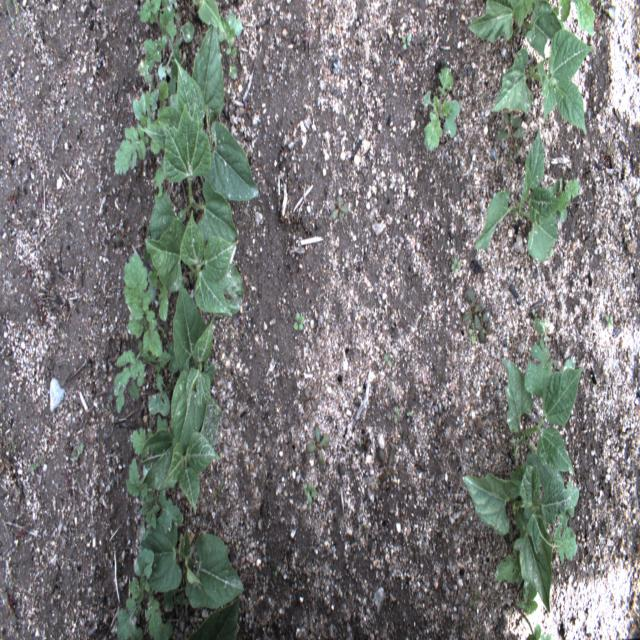crop: (140, 15, 259, 246), (460, 460, 580, 616), (501, 307, 585, 499), (474, 121, 581, 262), (490, 28, 594, 136), (142, 210, 242, 316), (137, 512, 245, 610), (135, 402, 223, 516), (170, 282, 218, 468), (466, 1, 565, 62), (187, 595, 242, 639)
weed: (113, 251, 173, 414), (114, 70, 181, 175), (115, 549, 173, 639), (139, 0, 194, 90), (124, 457, 182, 540), (422, 67, 460, 152), (148, 342, 180, 417), (551, 0, 594, 37), (497, 112, 525, 168), (215, 7, 242, 59), (147, 266, 168, 320), (306, 422, 330, 466), (192, 0, 223, 33), (464, 290, 484, 330), (332, 193, 349, 224), (304, 479, 318, 504), (293, 312, 304, 330)
